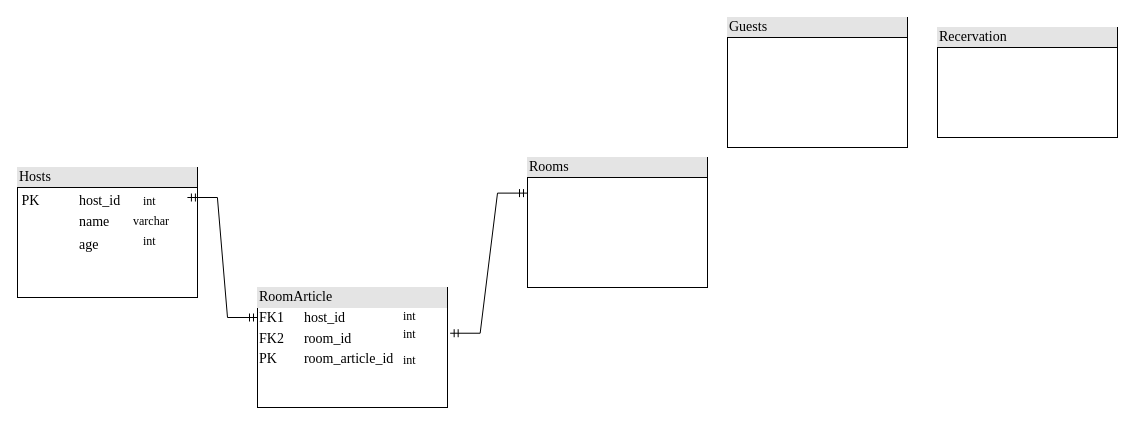
Some shapes in this 1135 by 425 pixel diagram are drawn without their labels. Here are the shapes that lost their labels. From the top down, the centre of each, then its label:
[817,92]: PK guest_id name age
[1027,92]: PK reservation_id status editional information
[617,232]: PK room_id amount of residents price A/C refrigirator
